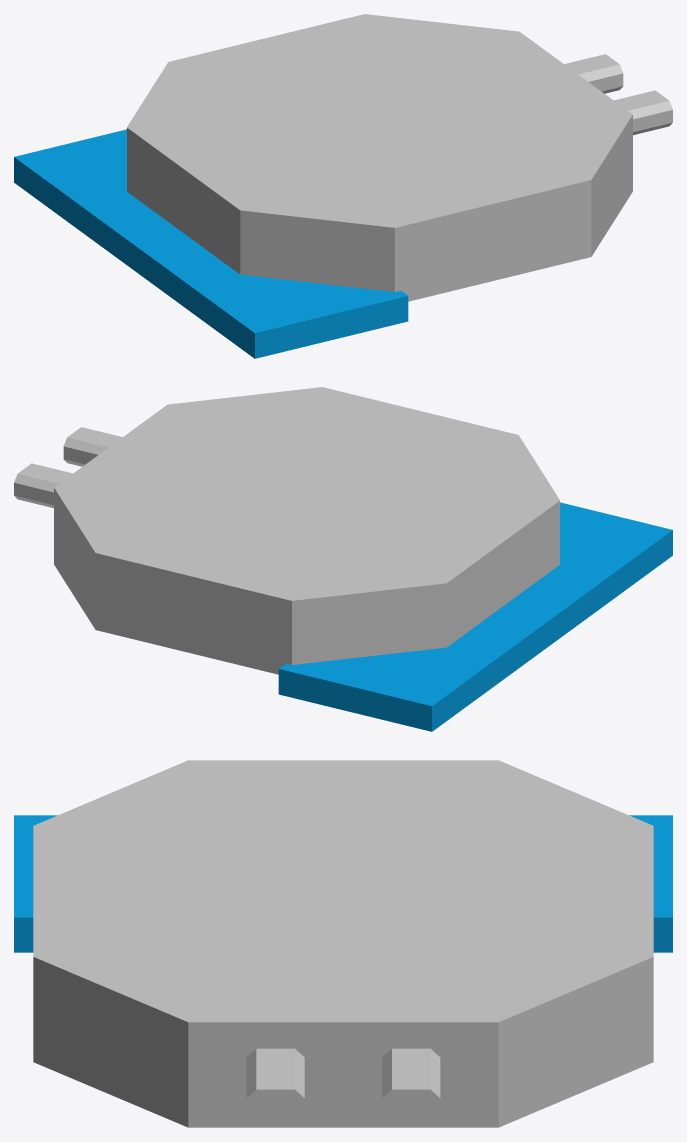
Rendered from Dockblau.dae.
The picture shows the model from 3 angles, top to bottom: view 1: azimuth 30°, elevation 25°; view 2: azimuth 150°, elevation 25°; view 3: azimuth 270°, elevation 25°; orthographic projection. The views are drawn at different scales.
Visible parts, largest first — view 1: dockhaupt, cube19, out, in; view 2: dockhaupt, cube19, in, out; view 3: dockhaupt, cube19, in, out.
Boxes of the visible parts, x1,y1,x2,y2 form: dockhaupt: (127, 14, 632, 301); cube19: (14, 129, 408, 358); out: (614, 90, 672, 135); in: (564, 54, 623, 93); dockhaupt: (54, 387, 559, 674); cube19: (278, 502, 672, 731); in: (14, 463, 72, 508); out: (63, 427, 122, 466); dockhaupt: (33, 760, 653, 1127); cube19: (14, 815, 672, 952); in: (382, 1048, 440, 1124); out: (246, 1048, 304, 1124).
Size of the model in its own units: 5248 by 896 by 4352.
